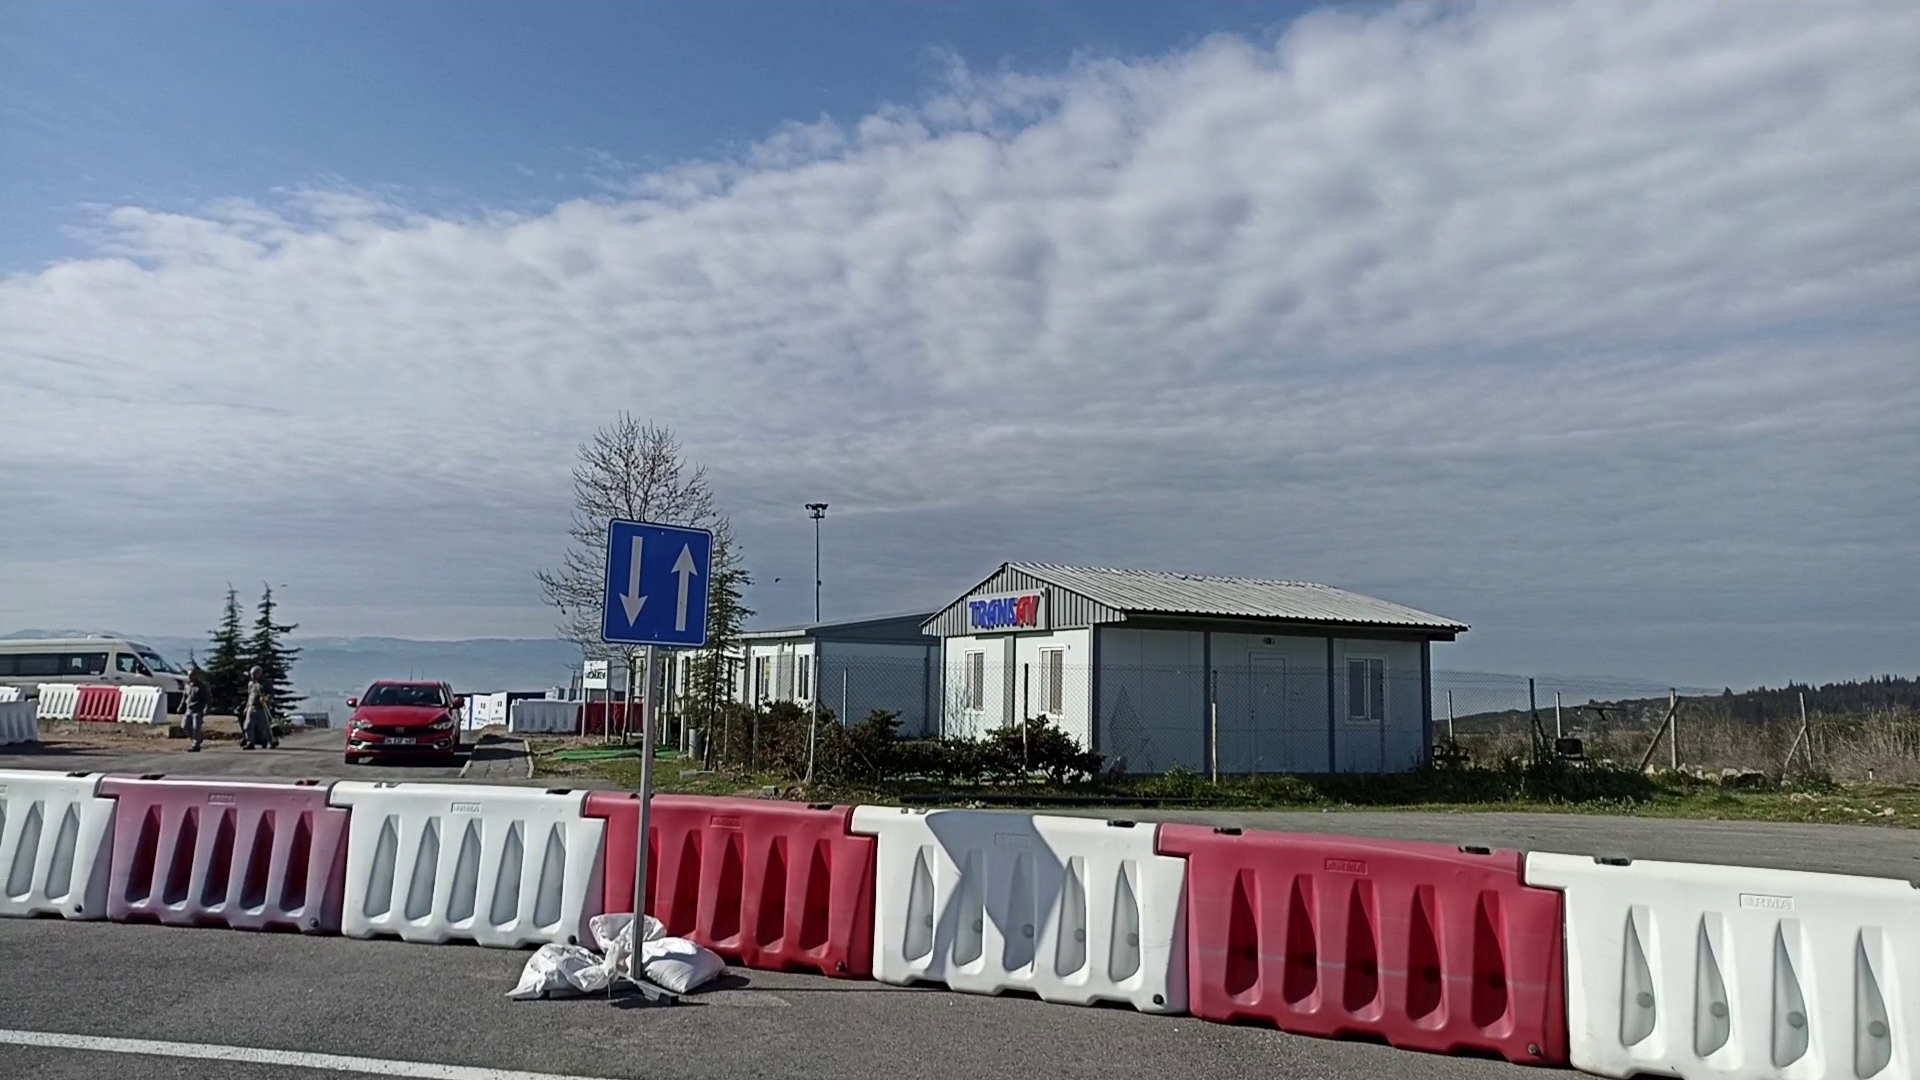oneway: (599, 516, 716, 649)
